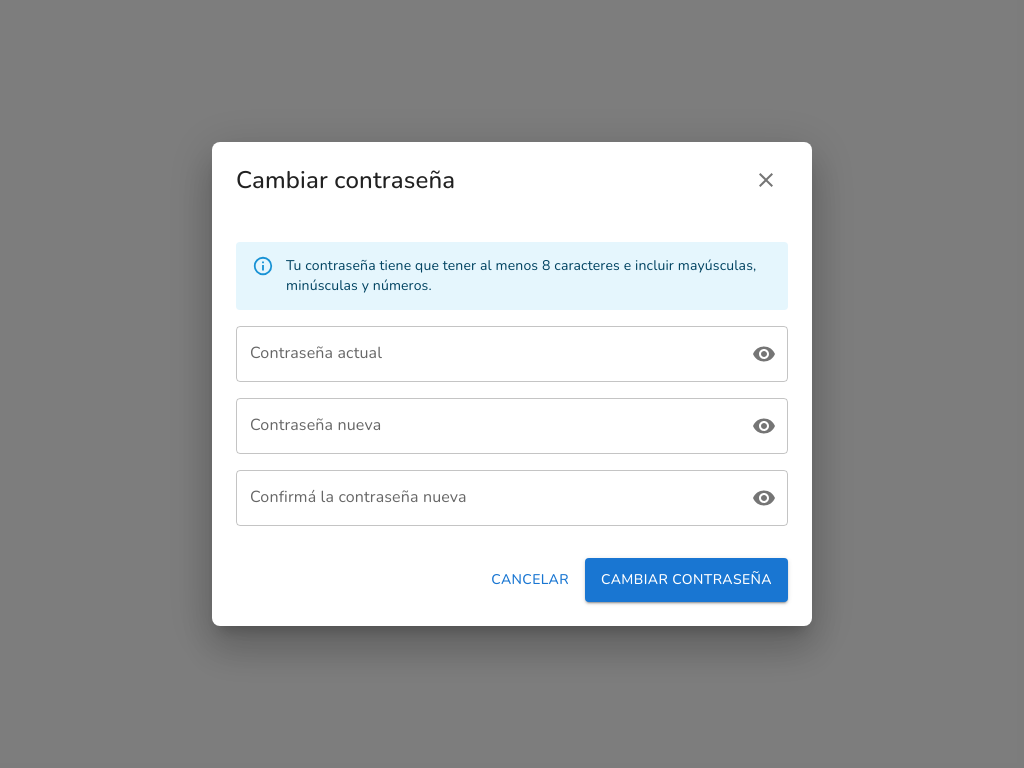
Test: Settings in Spanish › ChangePasswordDialog › should report its validation in Spanish
Type "OldPass123" into the password field labelled "Contraseña actual" at (485,354), box x1=236 y1=326 x2=734 y2=382
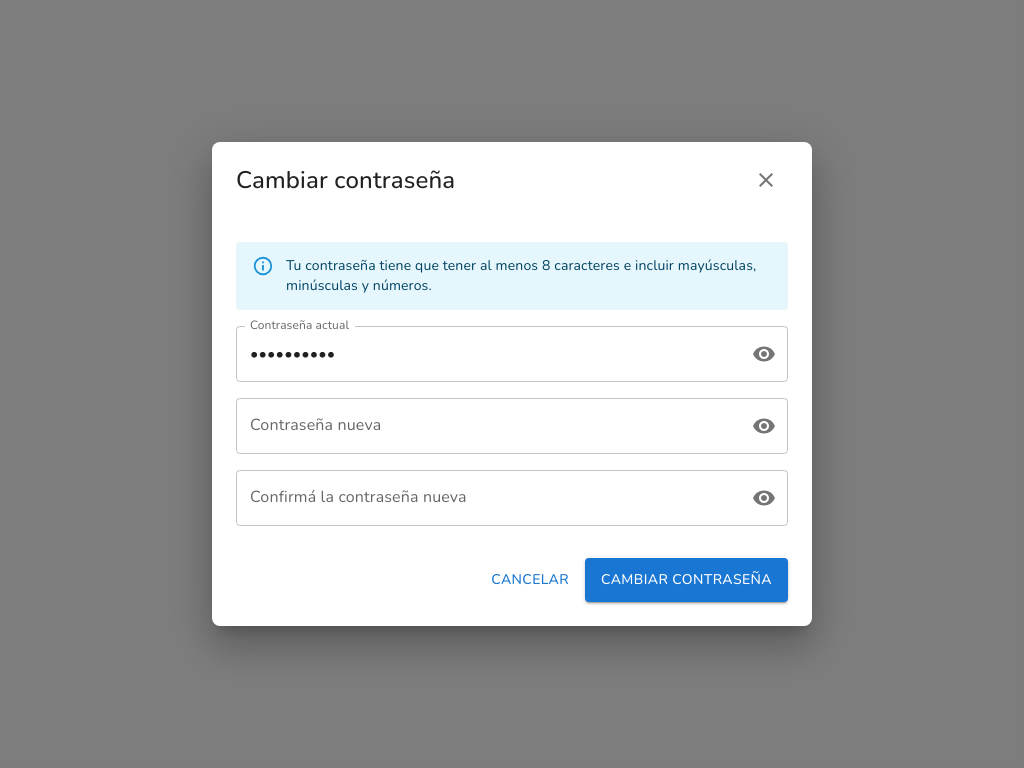
Type "newpass123" into the password field labelled "Contraseña nueva" at (485,426), box x1=236 y1=398 x2=734 y2=454
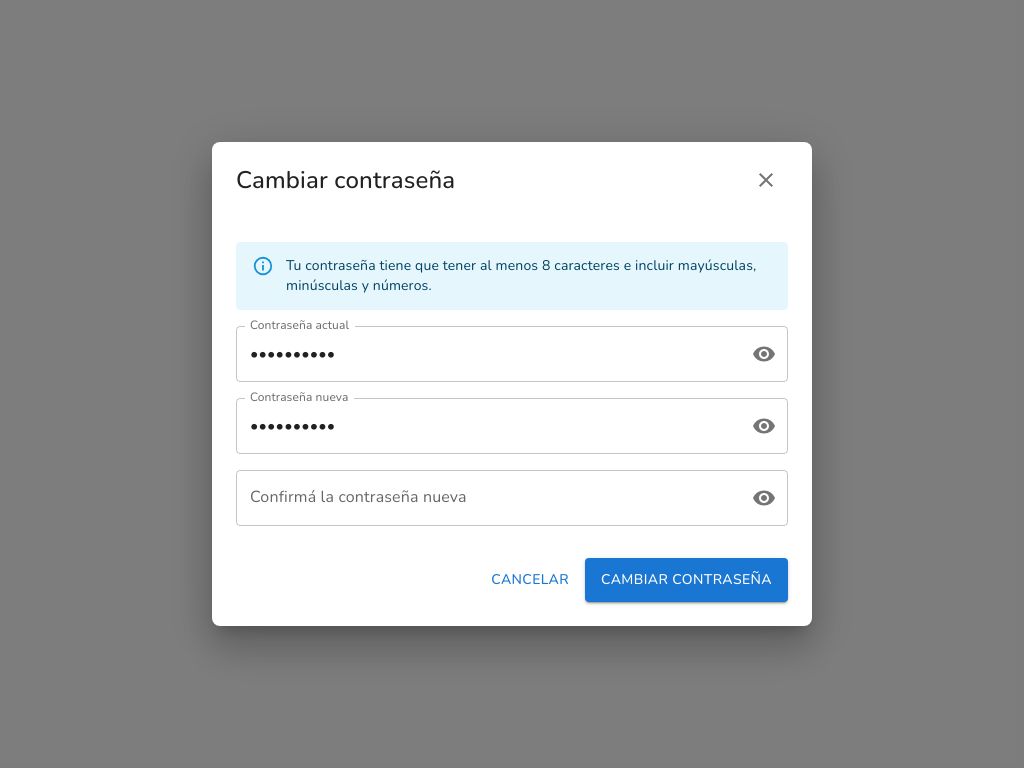
Click the button "Cambiar contraseña" at (687,580), box x1=585 y1=558 x2=788 y2=602
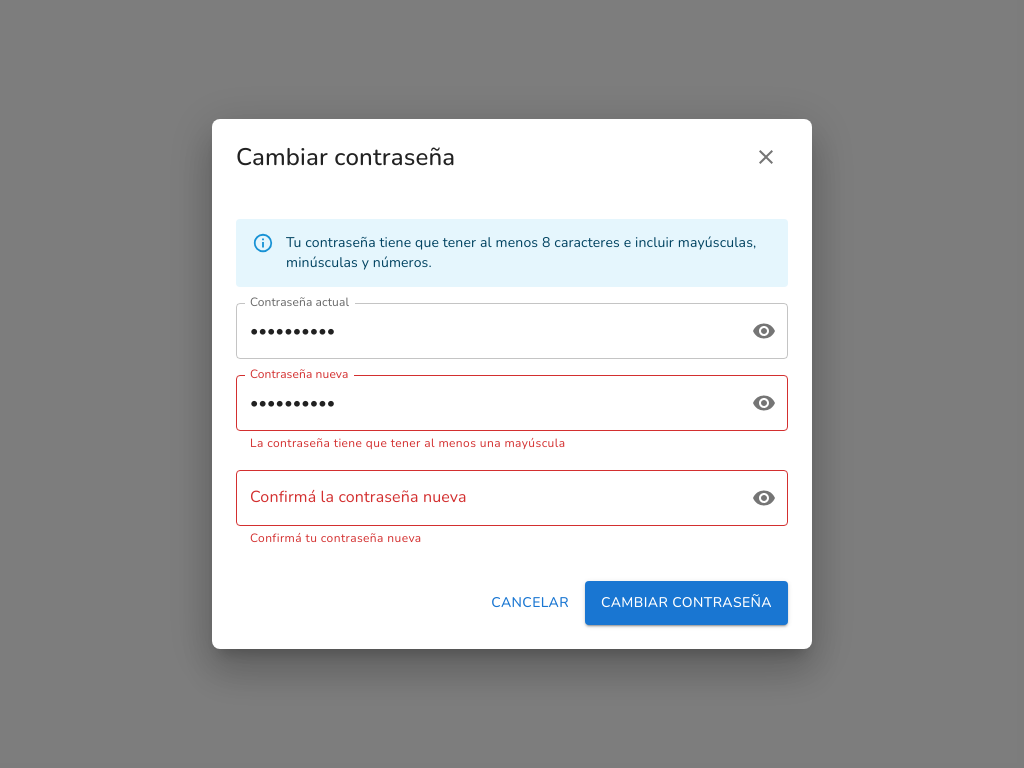
Expected: the text "La contraseña tiene que tener al menos una mayúscula" is shown, x1=250 y1=435 x2=566 y2=451
Expected: the text "Confirmá tu contraseña nueva" is shown, x1=250 y1=530 x2=422 y2=546
